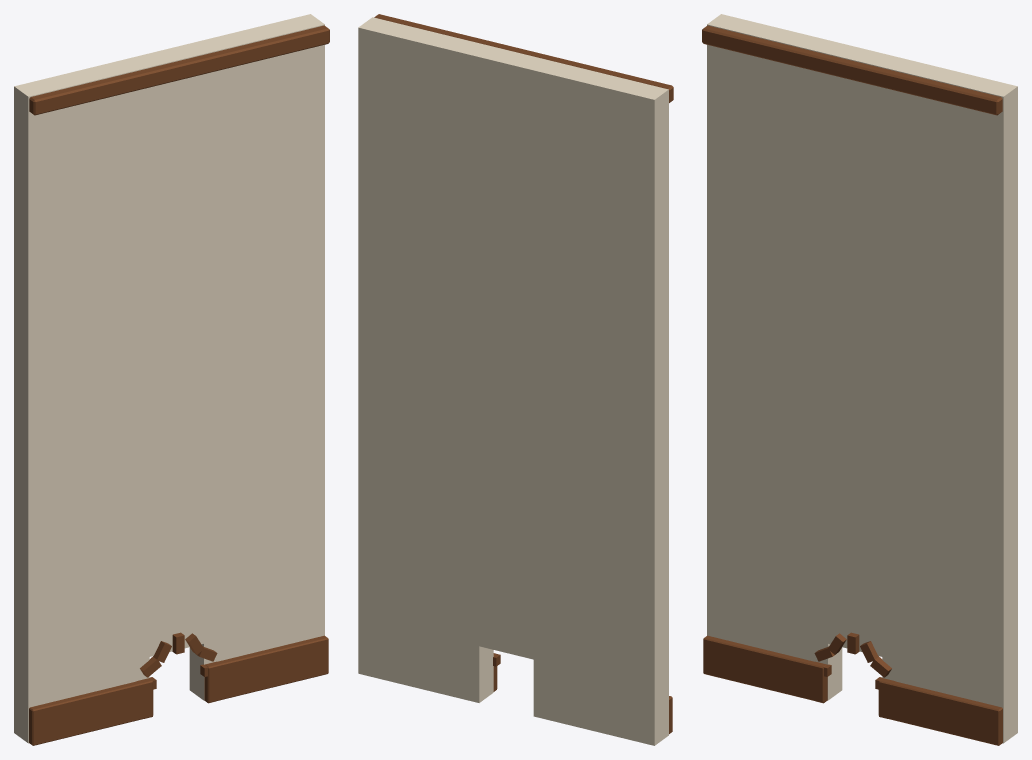
Rendered from wall_mousehole.glb.
The picture shows the model from 3 angles, left to right: view 1: azimuth 30°, elevation 25°; view 2: azimuth 150°, elevation 25°; view 3: azimuth 330°, elevation 25°; orthographic projection.
Parts seen in each view (by area): view 1: wall_mousehole; view 2: wall_mousehole; view 3: wall_mousehole.
Part boxes in pixels (left/top/right/bottom): wall_mousehole: left=14, top=14, right=329, bottom=745; wall_mousehole: left=358, top=14, right=673, bottom=745; wall_mousehole: left=702, top=14, right=1017, bottom=745.
Bounding box in the file's own units: 1.2 × 2.5 × 0.14.
